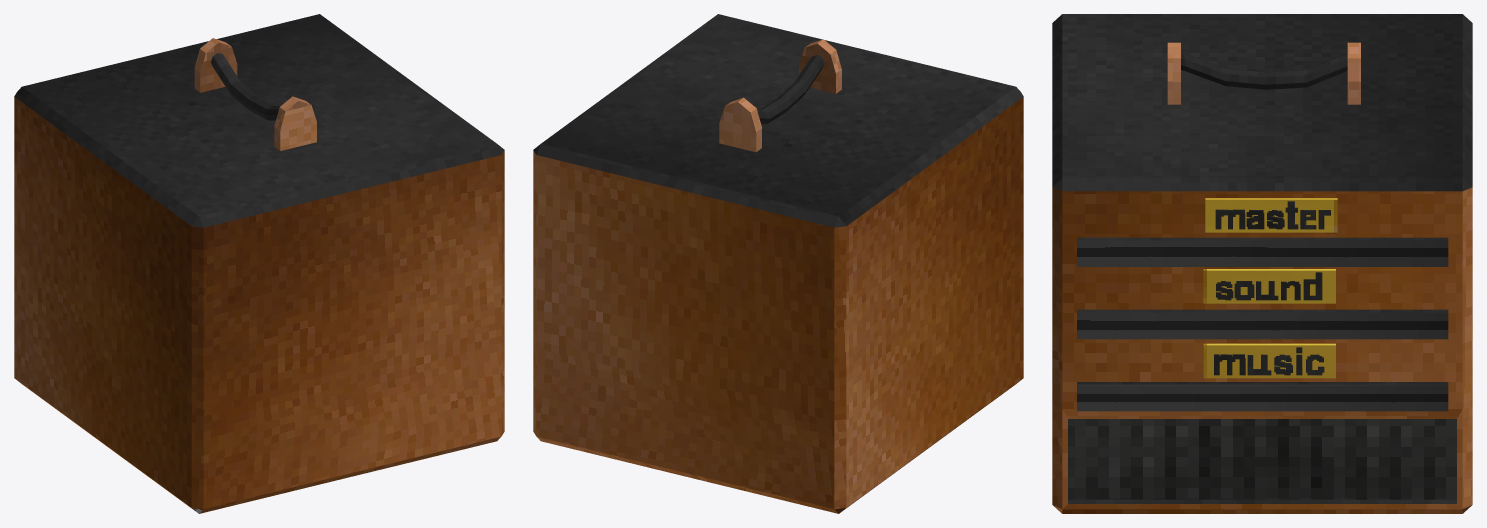
Rendered from SM_Amp.glb.
The picture shows the model from 3 angles, left to right: view 1: azimuth 30°, elevation 25°; view 2: azimuth 150°, elevation 25°; view 3: azimuth 270°, elevation 25°; orthographic projection. The views are drawn at different scales.
Visible parts, largest first — view 1: SM_AMP; view 2: SM_AMP; view 3: SM_AMP.
Boxes of the visible parts, <box> form: SM_AMP: <box>14,14,504,513</box>; SM_AMP: <box>533,14,1023,513</box>; SM_AMP: <box>1052,14,1472,513</box>.
Bounding box in the file's own units: 1.25 × 1.29 × 1.27.
Materials: 1 (1 with a texture image).
